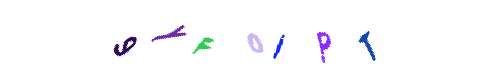9: (85, 0, 165, 80)
F: (164, 0, 244, 80)
I: (209, 0, 289, 80)
O: (207, 0, 287, 80)
P: (280, 0, 360, 80)
T: (296, 0, 376, 80)
Y: (134, 0, 214, 80)
